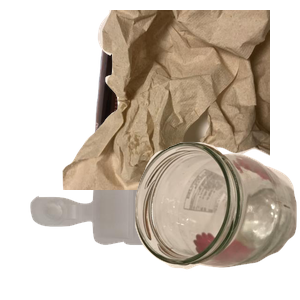glass: (132, 139, 300, 300)
metal: (91, 10, 258, 188)
plastic: (28, 176, 253, 300)
trash: (60, 10, 300, 190)
